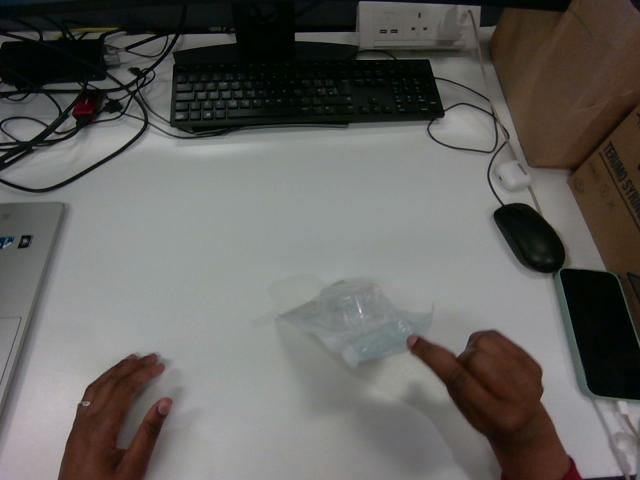gallipot: (280, 279, 431, 366)
